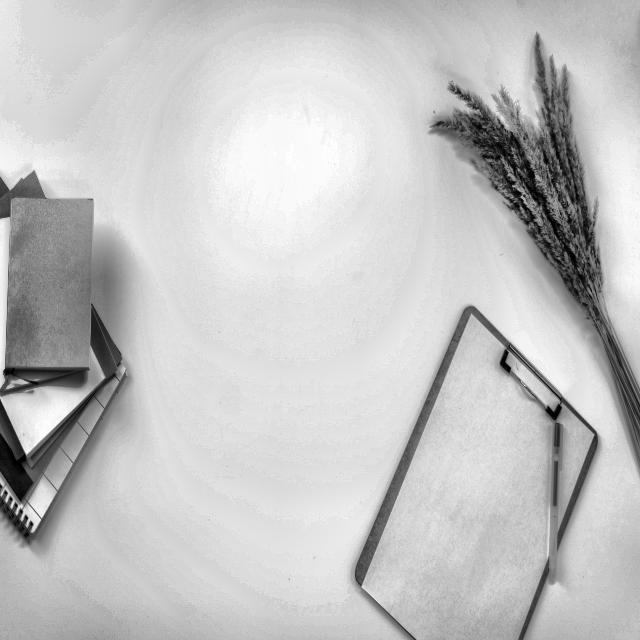Notebook: (349, 300, 602, 640), (1, 197, 91, 374)
Pen: (550, 420, 562, 585)
